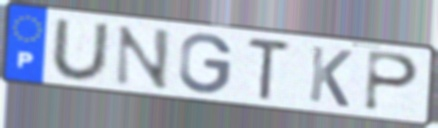G: (176, 31, 235, 96)
K: (306, 43, 355, 110)
N: (112, 23, 173, 92)
P: (361, 48, 422, 114)
T: (245, 35, 294, 102)
U: (49, 17, 112, 83)
